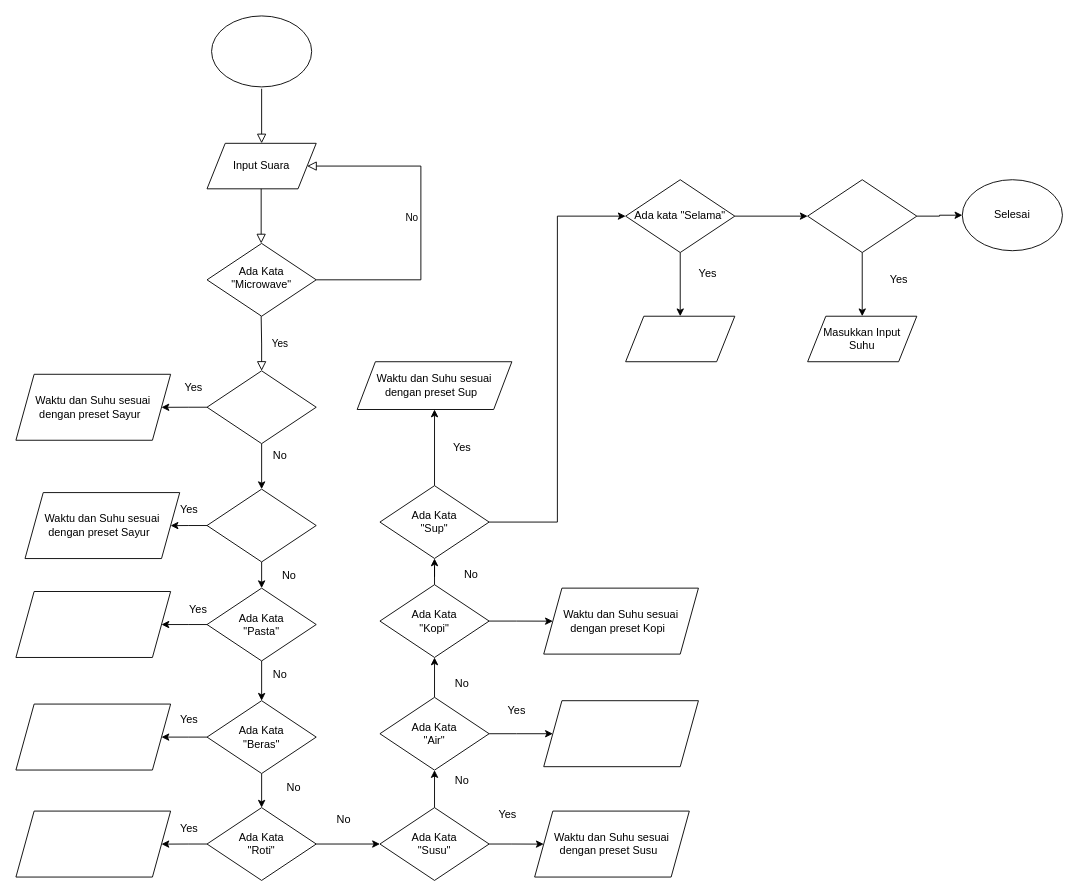
Image size: 1078x896. Some labels were removed from this diagram. The shapes that lost their labels are listed below. From the top down, each one's centre as x and y in pixels, then its label:
(x=261, y=51): Mulai
(x=862, y=216): Ada kata "Suhu"
(x=680, y=338): Masukkan Input Waktu
(x=261, y=407): Ada Kata "Daging"
(x=261, y=525): Ada Kata "Sayur"
(x=93, y=624): Waktu dan Suhu sesuai dengan preset Pasta
(x=93, y=736): Waktu dan Suhu sesuai dengan preset Beras
(x=620, y=733): Waktu dan Suhu sesuai dengan preset Air
(x=93, y=843): Waktu dan Suhu sesuai dengan preset Roti
